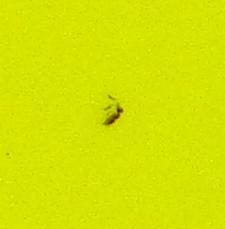Hymenoptera: (100, 100, 125, 129)
